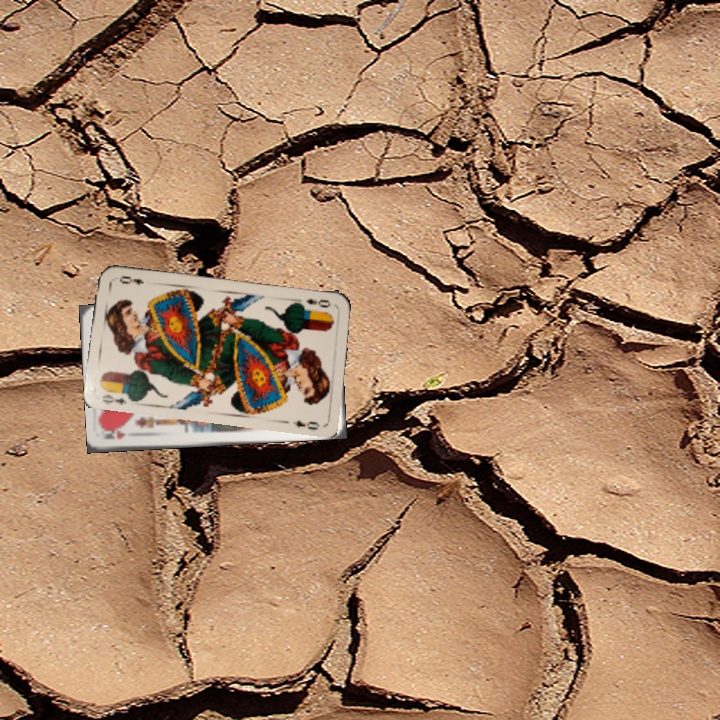EO: (98, 390, 129, 408), (302, 295, 333, 310)
HK: (101, 427, 128, 442)
